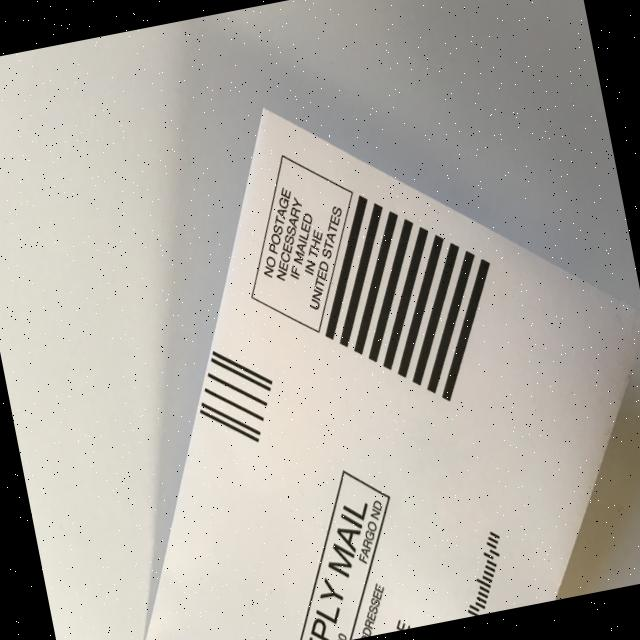paper: (29, 42, 640, 640)
